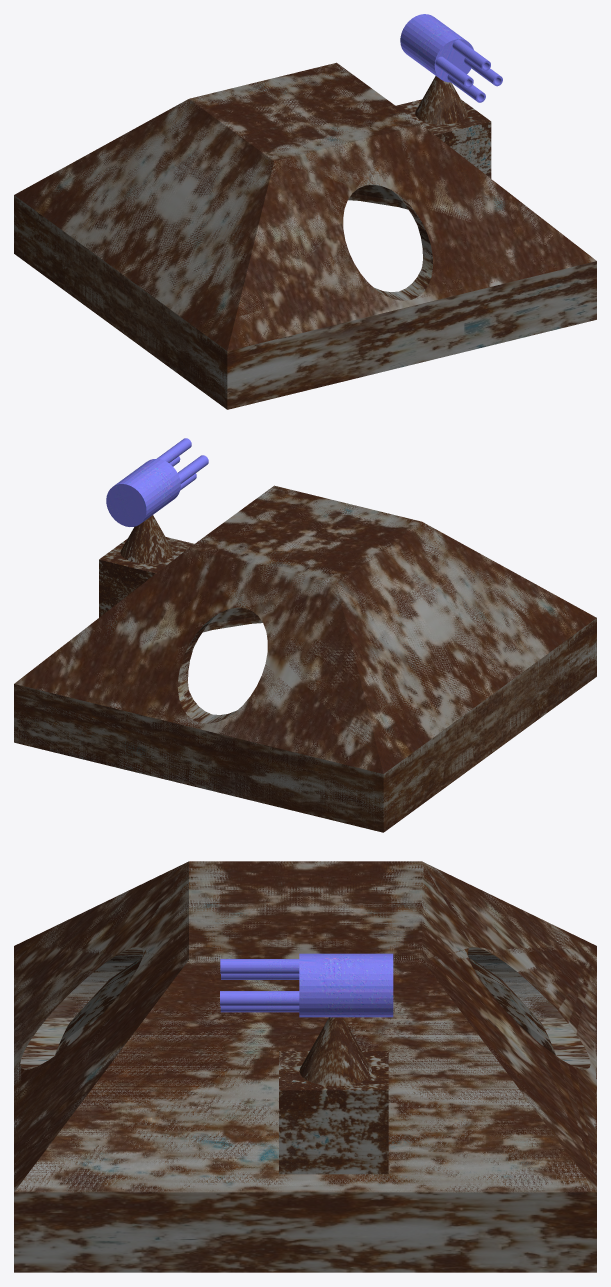
Rendered from first_skin.glb.
3 views of the same model, one above another, from view 1: azimuth 30°, elevation 25°; view 2: azimuth 150°, elevation 25°; view 3: azimuth 270°, elevation 25° (orthographic). The views are drawn at different scales.
Visible parts, largest first — view 1: Cube, miniGun, Cube.001, Cone; view 2: Cube, miniGun, Cube.001, Cone; view 3: Cube, Cube.001, miniGun, Cone.
Part boxes in pixels (x1,y1,x2,y2): Cube: [14, 62, 596, 409]; miniGun: [400, 14, 502, 102]; Cube.001: [396, 99, 491, 178]; Cone: [415, 76, 467, 124]; Cube: [14, 485, 596, 832]; miniGun: [106, 438, 208, 526]; Cube.001: [99, 537, 193, 617]; Cone: [120, 515, 173, 563]; Cube: [14, 861, 596, 1272]; Cube.001: [279, 1051, 388, 1174]; miniGun: [220, 953, 393, 1017]; Cone: [299, 1017, 371, 1086].
Size of the model in its own units: 2 by 1.1 by 2.
2 materials, 2 textured.
